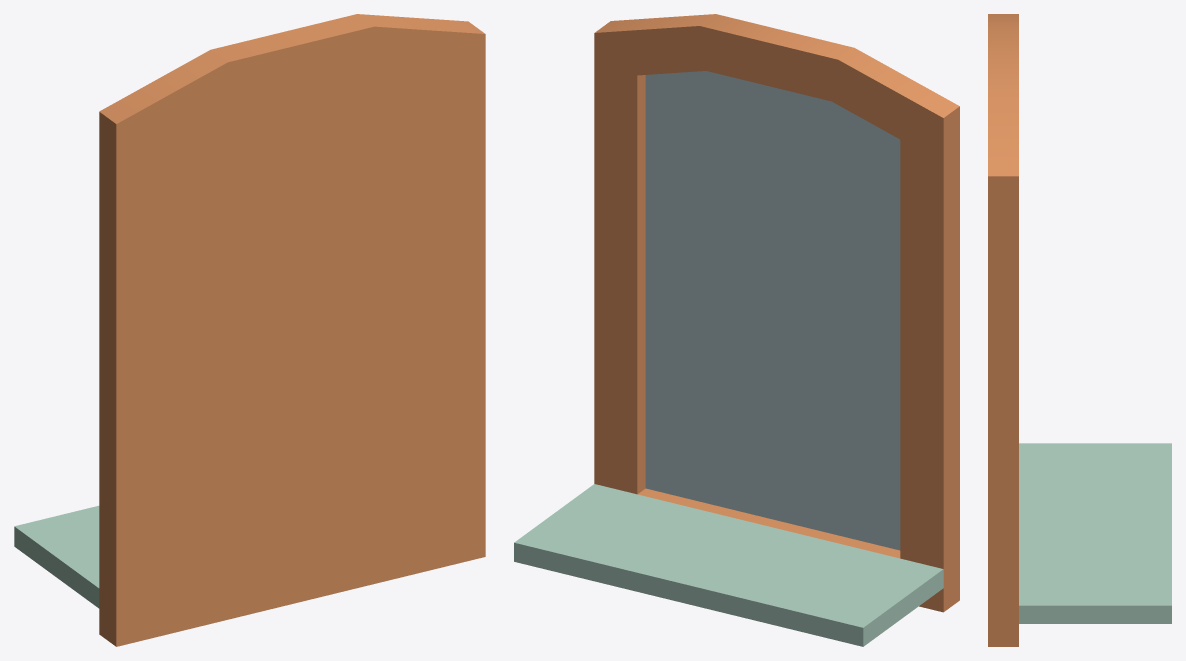
The model's file is bathroommirror.gltf.
3 views of the same model, side by side, from view 1: azimuth 30°, elevation 25°; view 2: azimuth 150°, elevation 25°; view 3: azimuth 270°, elevation 25° (orthographic). The views are drawn at different scales.
Visible parts, largest first — view 1: bathroommirror; view 2: bathroommirror; view 3: bathroommirror.
Boxes of the visible parts, x1,y1,x2,y2 form: bathroommirror: (14,14,485,646); bathroommirror: (514,14,959,646); bathroommirror: (988,14,1171,646).
Bounding box in the file's own units: 0.3013 × 0.4346 × 0.1444.
Materials: 1 (1 with a texture image).
